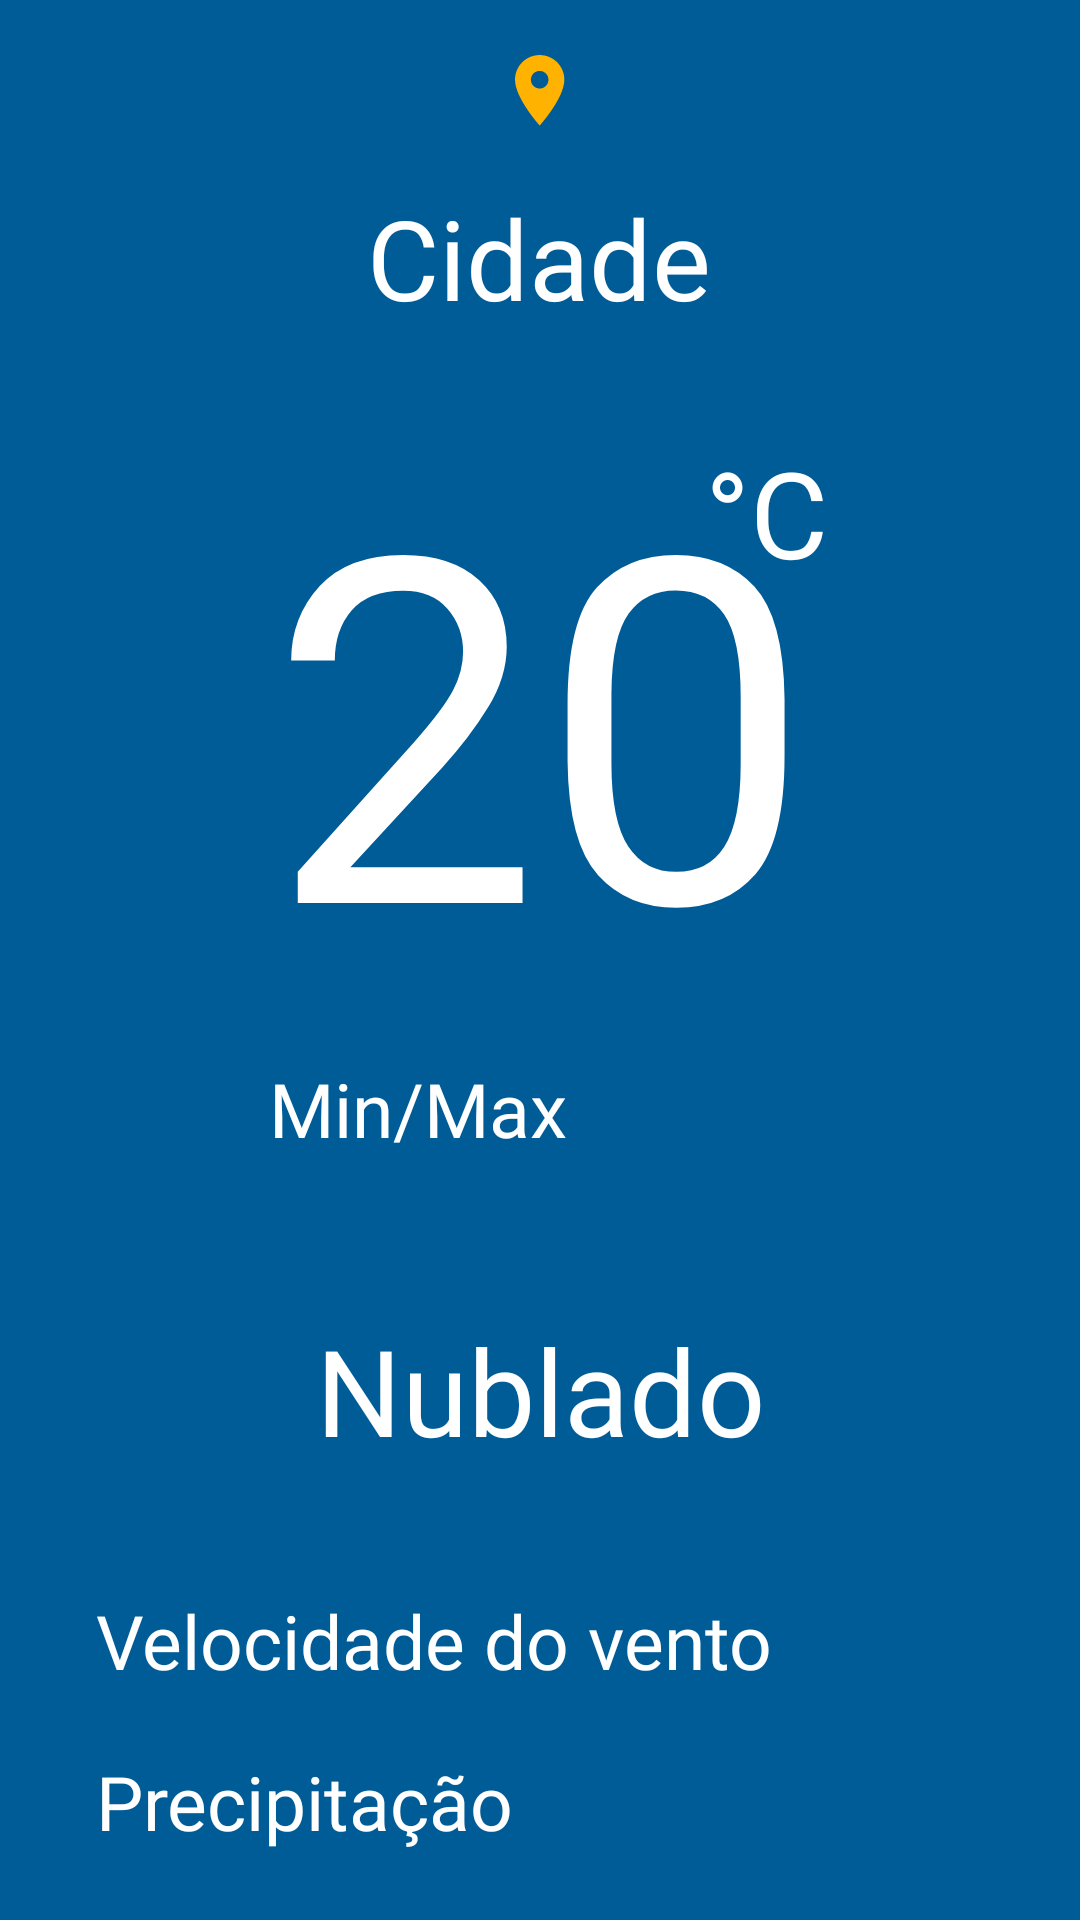

Locate icon controls on the screen. Image size 1080w x 1920h, boxes as {"left": x1, "top": y1, "right": x2, "bottom": y2}.
mylocation: {"left": 515, "top": 55, "right": 565, "bottom": 126}
